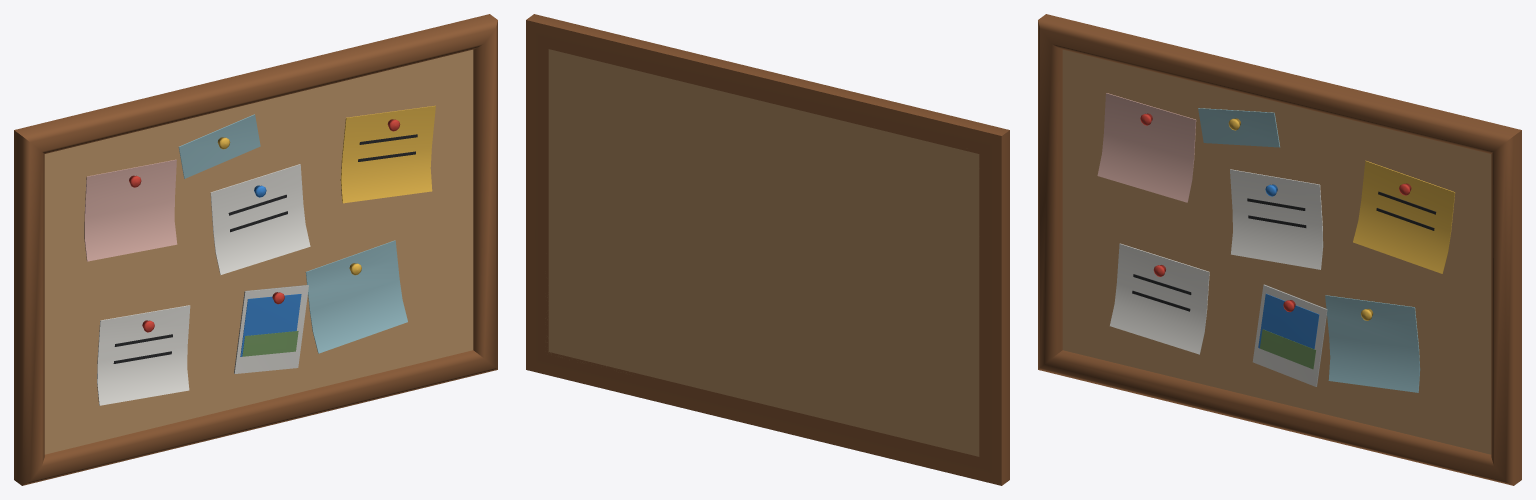
Rendered from corkboard.glb.
3 renders of one model, left to right at view 1: azimuth 30°, elevation 25°; view 2: azimuth 150°, elevation 25°; view 3: azimuth 330°, elevation 25°, orthographic.
Visible parts, largest first — view 1: corkboard; view 2: corkboard; view 3: corkboard.
Boxes of the visible parts, left/top/right/bottom form: corkboard: left=14, top=14, right=497, bottom=485; corkboard: left=526, top=14, right=1009, bottom=485; corkboard: left=1038, top=14, right=1521, bottom=485.
Bounding box in the file's own units: 0.74 × 0.52 × 0.0331.
